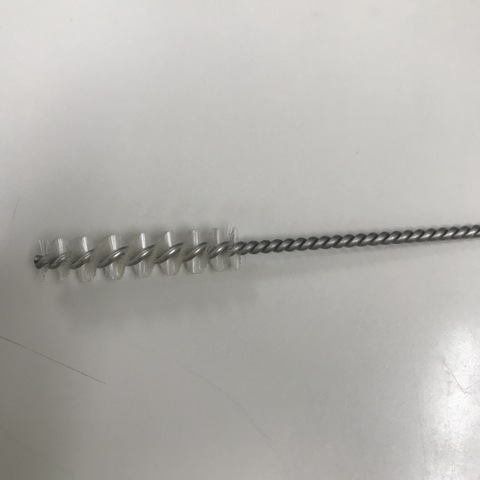Twist Brush-B: (27, 221, 480, 286)
